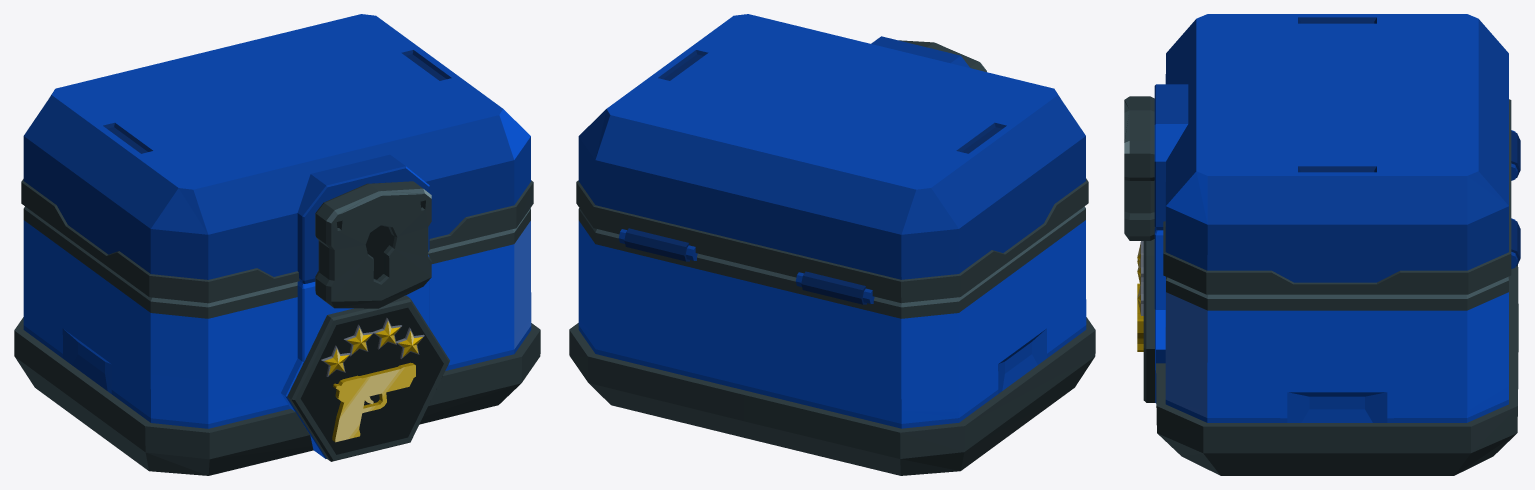
The model's file is box_weaponGrade04.fbx.
3 views of the same model, side by side, from view 1: azimuth 30°, elevation 25°; view 2: azimuth 150°, elevation 25°; view 3: azimuth 270°, elevation 25° (orthographic). The views are drawn at different scales.
Parts seen in each view (by area): view 1: Object003, box_weaponGrade04, Object004; view 2: Object003, box_weaponGrade04; view 3: Object003, box_weaponGrade04, Object004.
Boxes of the visible parts, x1,y1,x2,y2 form: Object003: [21, 14, 533, 303]; box_weaponGrade04: [14, 206, 540, 475]; Object004: [315, 181, 431, 308]; Object003: [576, 14, 1088, 304]; box_weaponGrade04: [569, 206, 1095, 475]; Object003: [1154, 14, 1520, 294]; box_weaponGrade04: [1137, 228, 1518, 475]; Object004: [1124, 96, 1154, 240].
Bounding box in the file's own units: 187 × 128 × 158.
